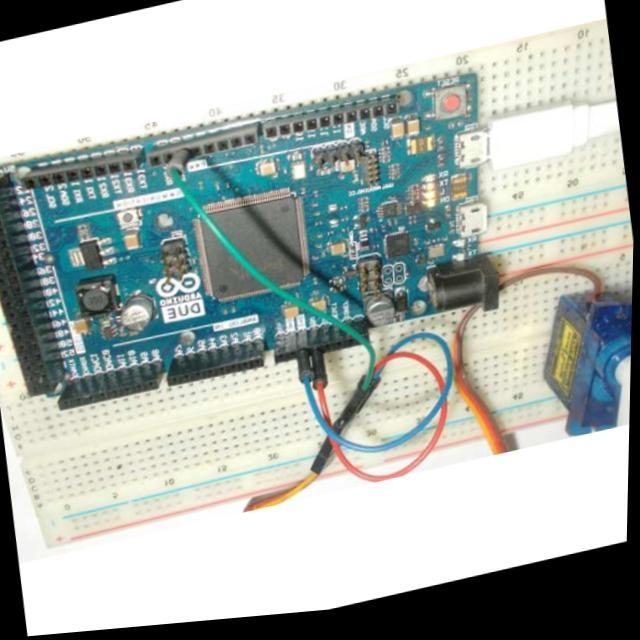Arduino-Due: (1, 74, 500, 409)
